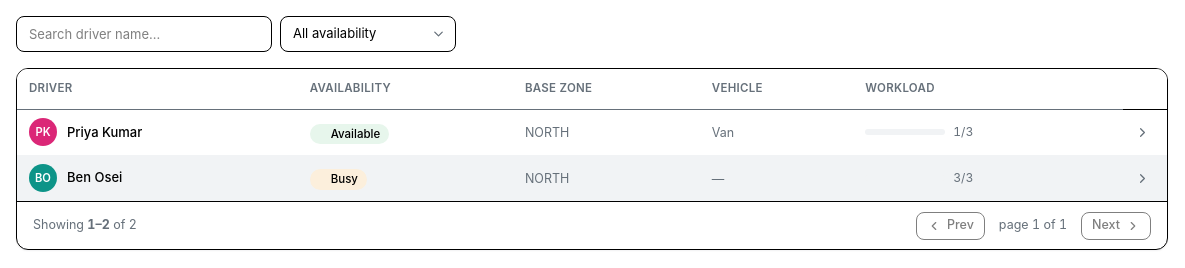
Scenario: filters rows client-side by search
The width and height of the screenshot is (1185, 268).
Step 1. Type "ben" into the field named "Search drivers" → (144, 34), box [16,16,272,52]
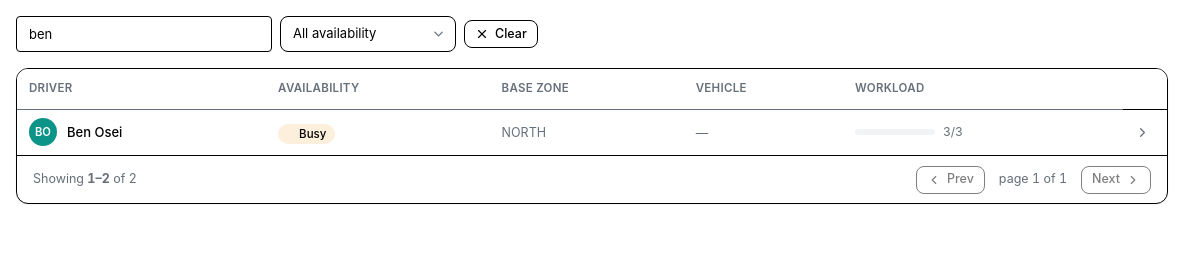
Expected: the text "Ben Osei" is shown, [67,122,122,142]
Expected: the text "Priya Kumar" is gone
